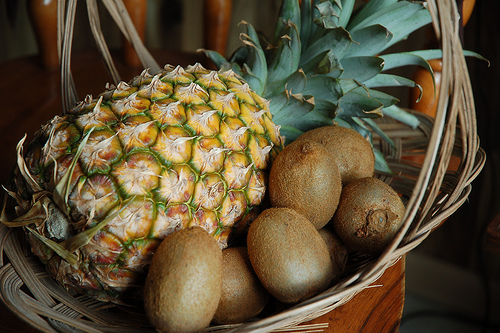pineapple: (1, 0, 488, 304)
